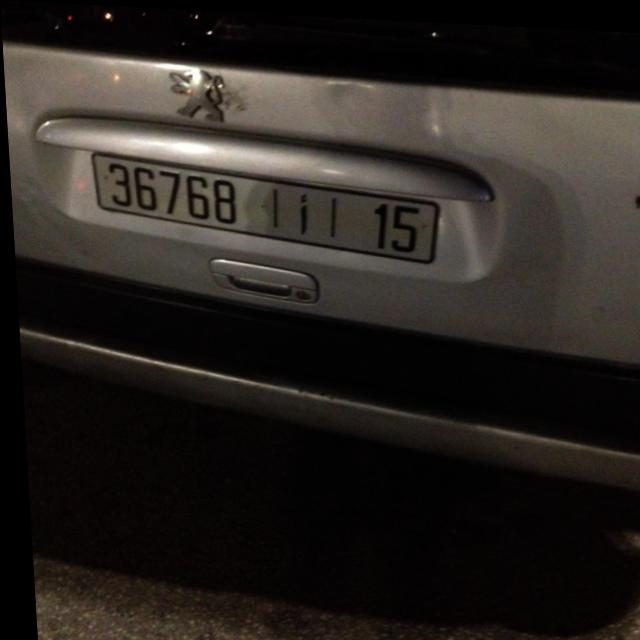License-Plate: (90, 153, 436, 257)
